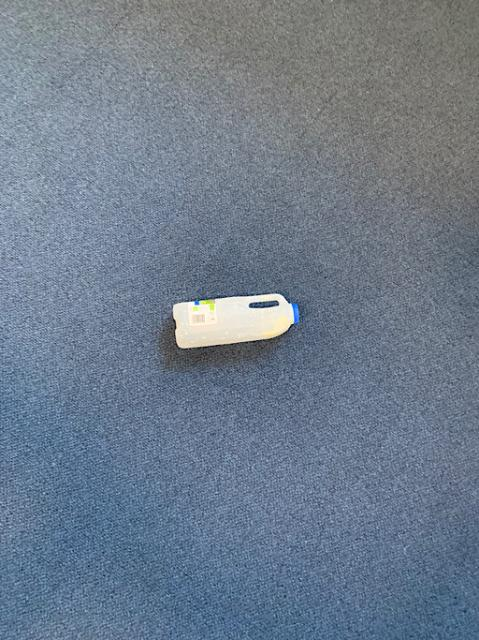plastic: (172, 293, 298, 347)
